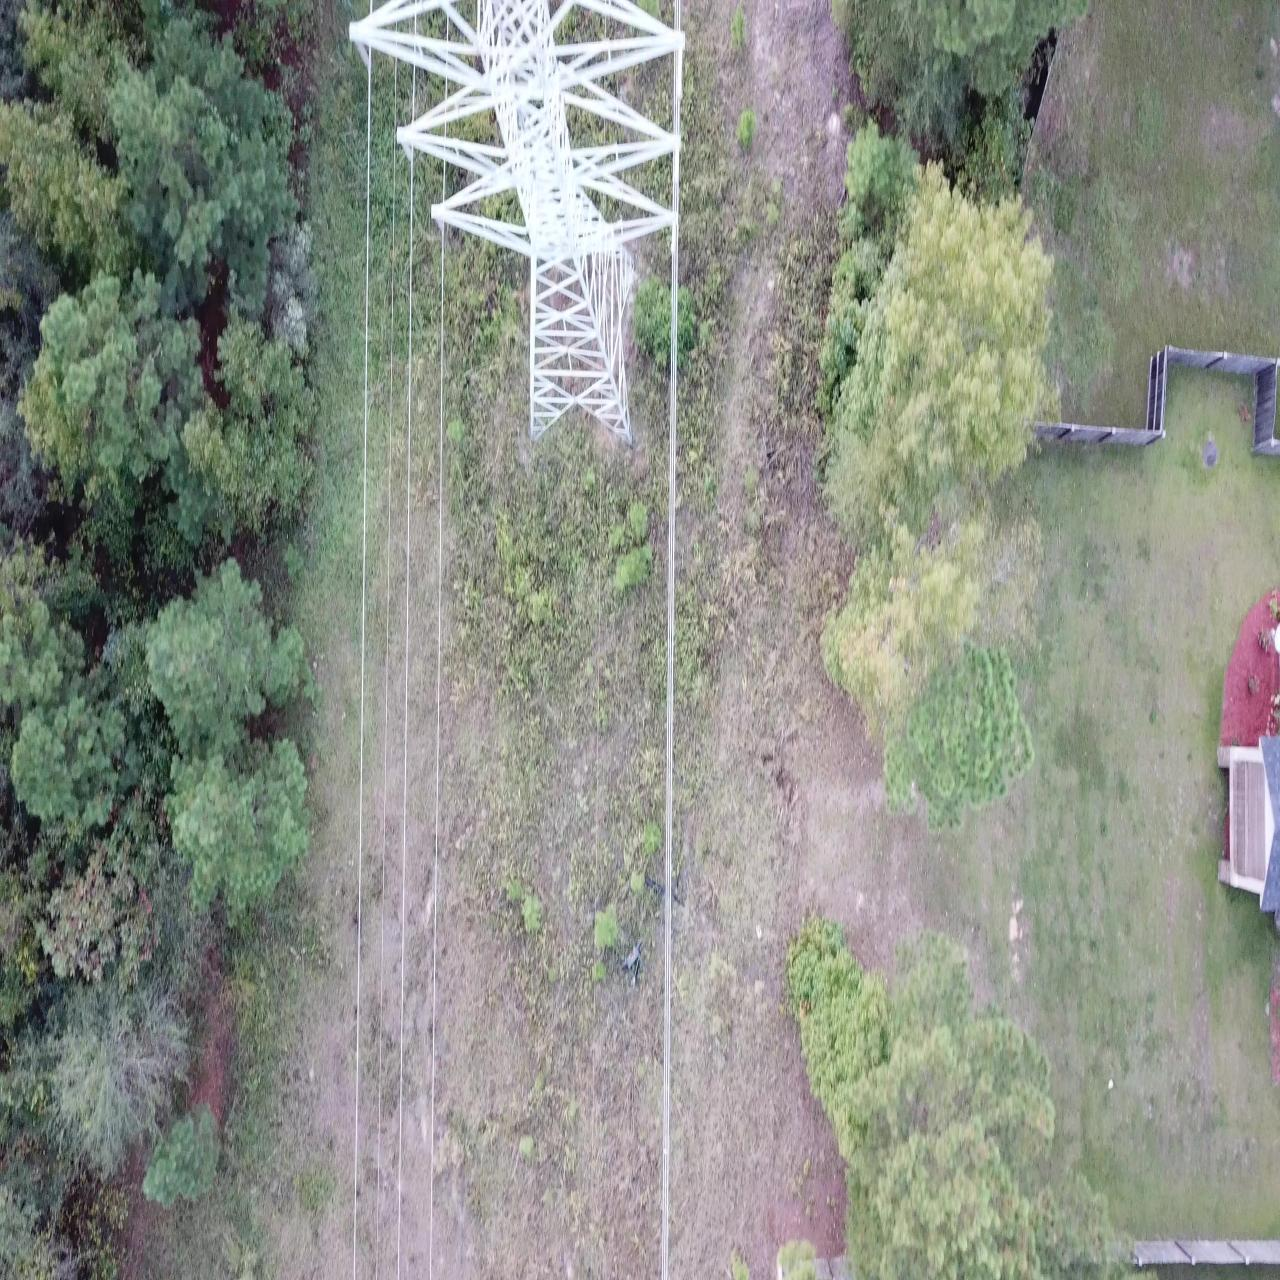cable: (375, 0, 397, 1279), (354, 47, 372, 1279), (397, 147, 413, 1279), (429, 222, 444, 1279), (663, 224, 676, 1279), (666, 225, 678, 1279), (662, 252, 673, 1279), (591, 422, 602, 1279), (443, 13, 449, 202), (413, 0, 416, 121), (676, 151, 680, 213), (675, 50, 678, 135), (673, 50, 675, 134), (678, 97, 680, 135), (679, 0, 681, 30), (673, 151, 674, 211), (674, 183, 676, 212), (676, 0, 678, 30), (604, 76, 606, 91), (675, 0, 676, 29), (370, 0, 373, 14)
tower_lattice: (349, 0, 686, 445)
